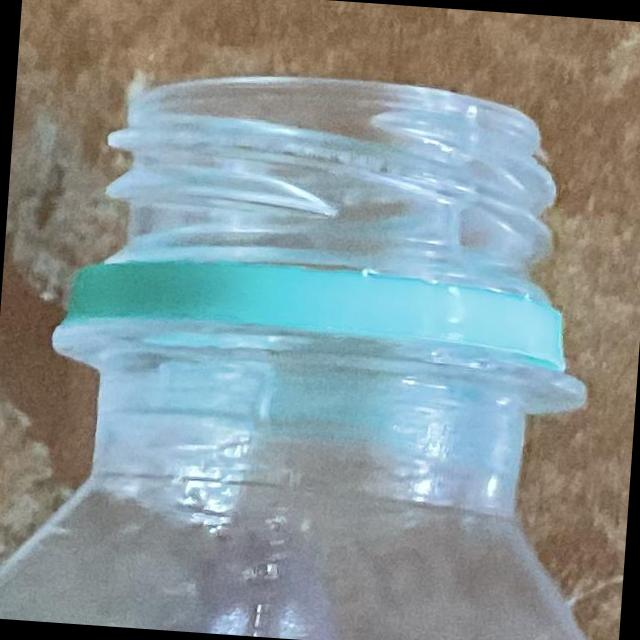open-cap: (64, 59, 592, 358)
